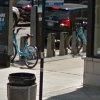Bicycle: (7, 22, 40, 70)
